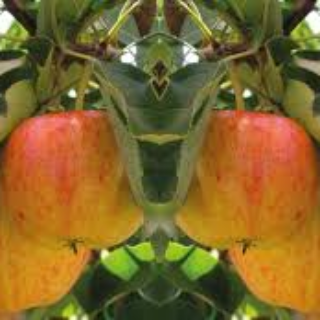tao: (179, 108, 318, 249), (5, 109, 142, 252)
